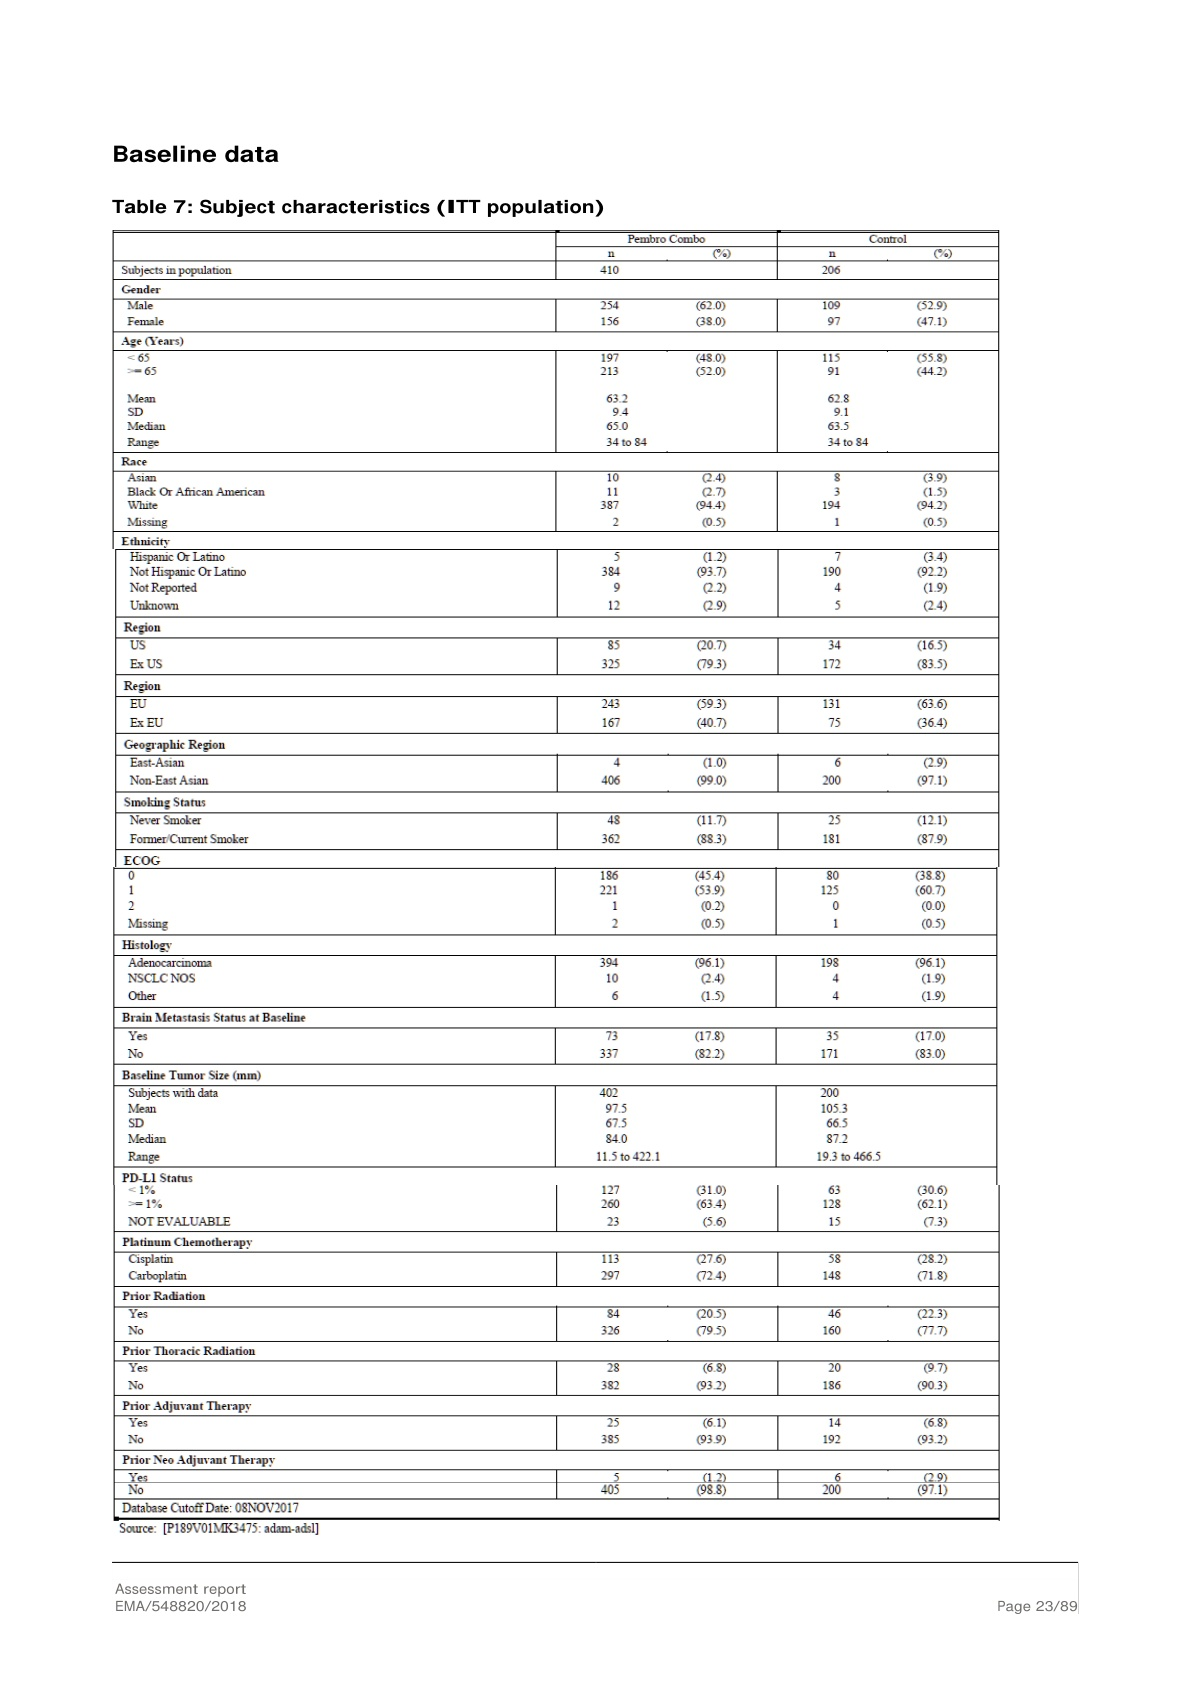merged_cells: (111, 229, 1001, 1522)
